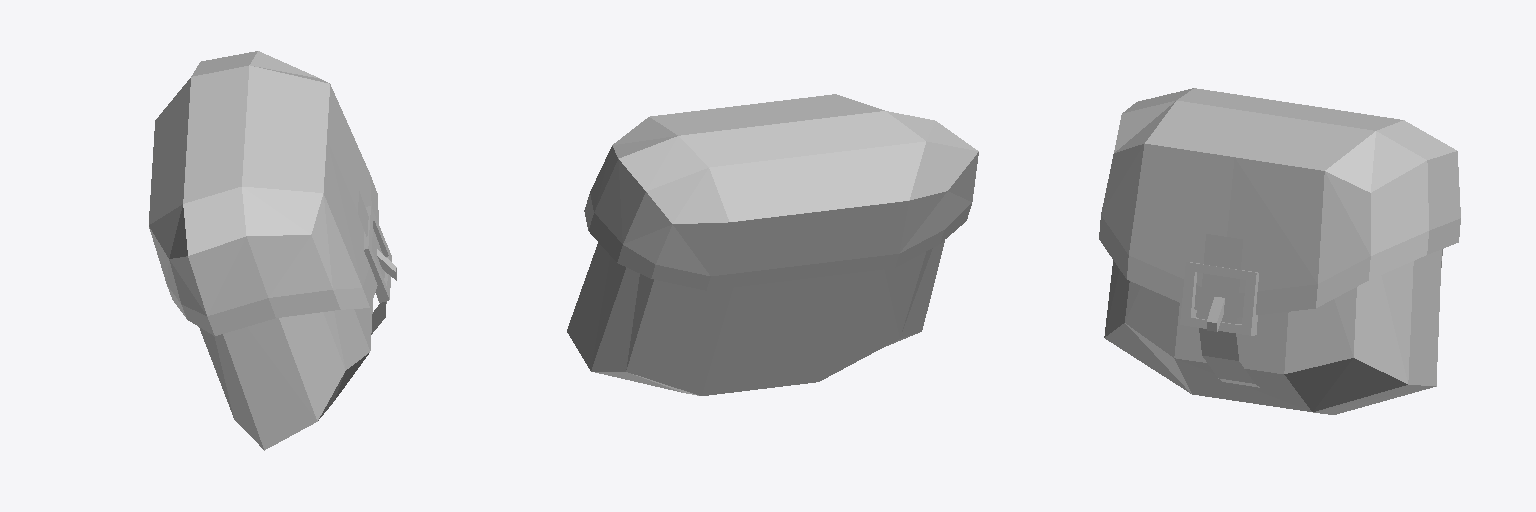
Rendered from WizardPouch.obj.
The picture shows the model from 3 angles: view 1: azimuth 30°, elevation 25°; view 2: azimuth 150°, elevation 25°; view 3: azimuth 270°, elevation 25°; orthographic projection.
Visible parts, largest first — view 1: WizardPouch; view 2: WizardPouch; view 3: WizardPouch.
Part boxes in pixels (x1,y1,x2,y2): WizardPouch: (149,51,396,450); WizardPouch: (567,94,978,395); WizardPouch: (1099,88,1460,414).
Size of the model in its own units: 0.2435 by 0.2423 by 0.2737.